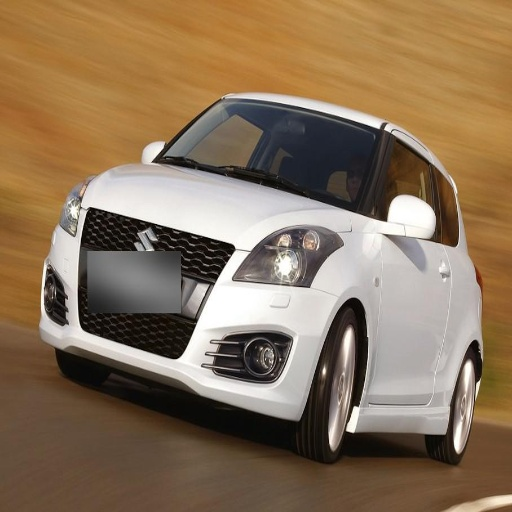front_bumper: (46, 204, 336, 417)
front_glass: (155, 100, 374, 204)
front_left_door: (370, 134, 447, 402)
front_left_light: (236, 225, 343, 285)
